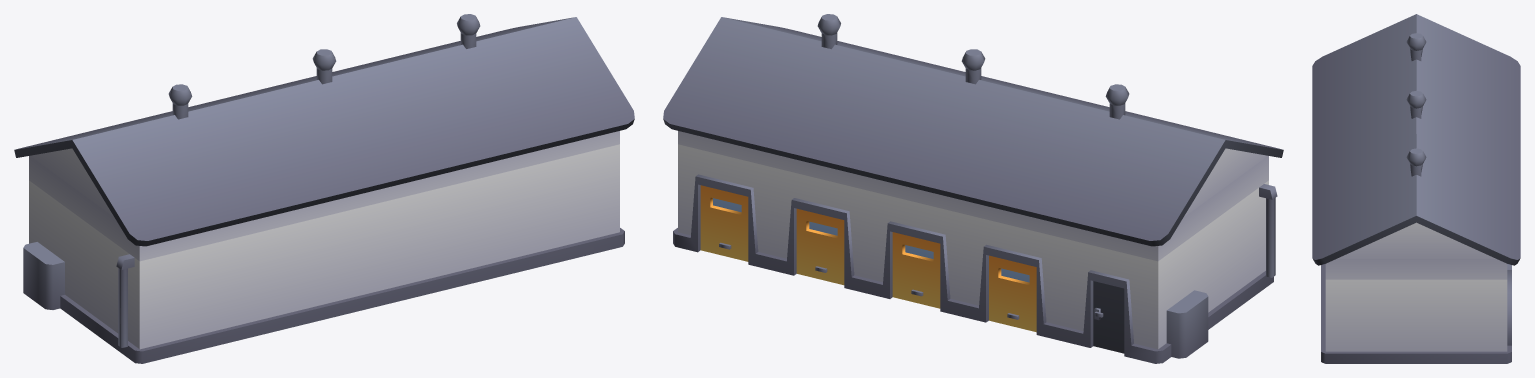
Rendered from building-s.lod.glb.
3 views of the same model, side by side, from view 1: azimuth 30°, elevation 25°; view 2: azimuth 150°, elevation 25°; view 3: azimuth 270°, elevation 25° (orthographic). The views are drawn at different scales.
Visible parts, largest first — view 1: building-s; view 2: building-s; view 3: building-s.
Part boxes in pixels (box(x1,y1,x2,y2)): building-s: box(14, 14, 634, 363); building-s: box(663, 14, 1283, 363); building-s: box(1312, 14, 1520, 363).
Size of the model in its own units: 2.12 by 0.8368 by 0.9162.
Materials: 1 (1 with a texture image).
